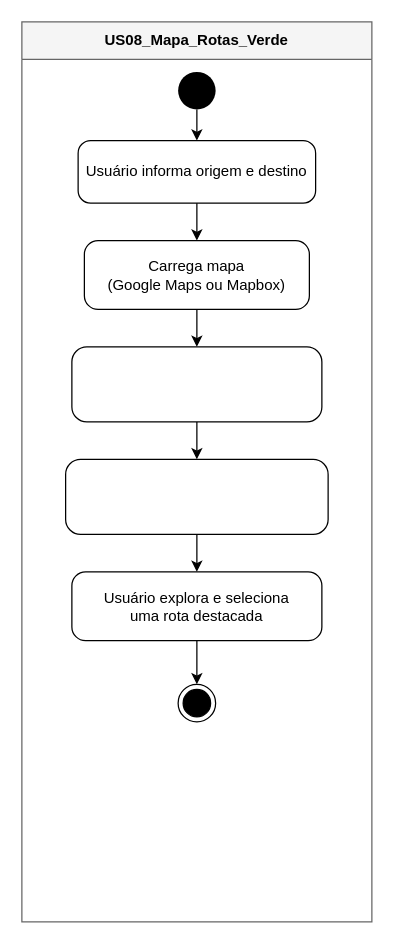
Image size: 394x944. Some labels were removed from this diagram. The shapes that lost their labels are listed below. From the top down, each one's centre as x and y in pixels, then its label:
the point at 196,384: Consulta histórico de fluidez de tags no corredor
the point at 196,496: Sinaliza visualmente "Rotas Verdes" no mapa
